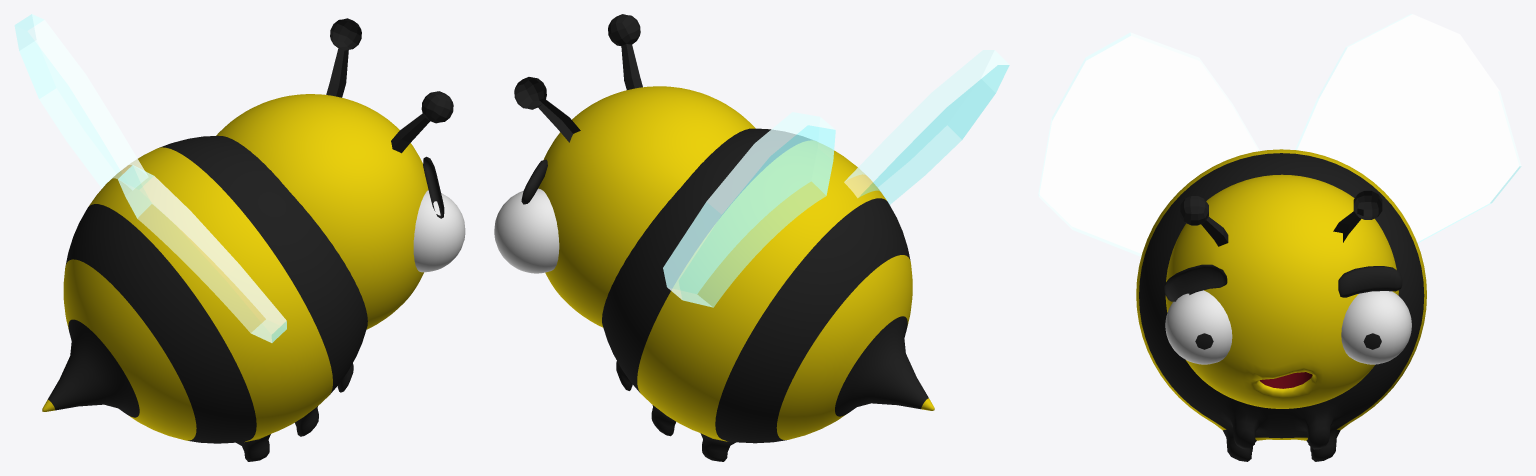
The model's file is bee.glb.
The picture shows the model from 3 angles, left to right: view 1: azimuth 30°, elevation 25°; view 2: azimuth 150°, elevation 25°; view 3: azimuth 270°, elevation 25°; orthographic projection. The views are drawn at different scales.
Parts seen in each view (by area): view 1: abejaMesh.007, Cube.002, Cube.001; view 2: abejaMesh.007, Cube.002, Cube.001; view 3: abejaMesh.007, Cube.002, Cube.001.
Boxes of the visible parts, left/top/right/bottom form: abejaMesh.007: left=42, top=18, right=465, bottom=461; Cube.002: left=14, top=14, right=146, bottom=188; Cube.001: left=118, top=165, right=286, bottom=342; abejaMesh.007: left=494, top=14, right=934, bottom=461; Cube.002: left=663, top=112, right=835, bottom=307; Cube.001: left=844, top=50, right=1009, bottom=204; abejaMesh.007: left=1136, top=149, right=1426, bottom=461; Cube.002: left=1295, top=14, right=1521, bottom=243; Cube.001: left=1038, top=32, right=1259, bottom=256.
Size of the model in its own units: 1.14 by 1.17 by 1.34.
